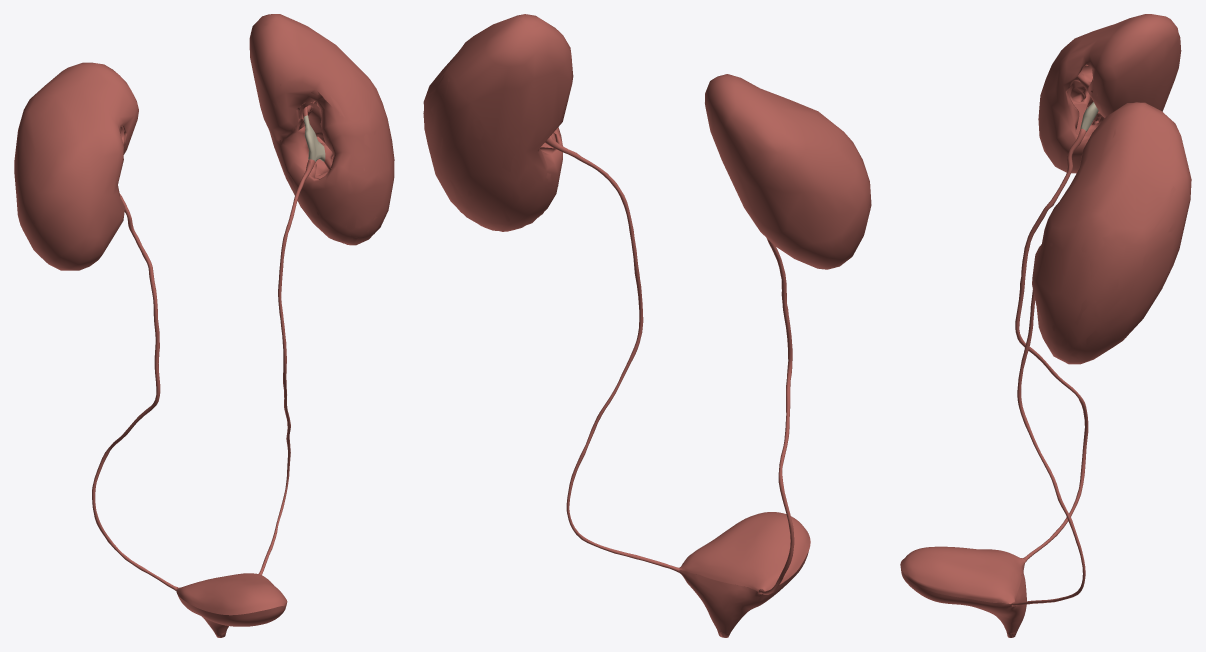
The model's file is adult_female.urinary.LOD2.glb.
3 renders of one model, left to right at view 1: azimuth 30°, elevation 25°; view 2: azimuth 150°, elevation 25°; view 3: azimuth 270°, elevation 25°, orthographic. The views are drawn at different scales.
Parts seen in each view (by area): view 1: ADULT.FEMALE.URINARY.KIDNEY_CAPSULE.L, ADULT.FEMALE.URINARY.KIDNEY_CAPSULE.R, ADULT.FEMALE.URINARY.FUNDUS_OF_URINARY_BLADDER_DOME, ADULT.FEMALE.URINARY.URETER.R, ADULT.FEMALE.URINARY.URETER.L, ADULT.FEMALE.URINARY.FUNDUS_OF_URINARY_BLADDER_BASE, ADULT.FEMALE.URINARY.HILUM_OF_KIDNEY.L, ADULT.FEMALE.URINARY.OUTER_CORTEX_OF_KIDNEY.L, ADULT.FEMALE.URINARY.RENAL_PELVIS.L; view 2: ADULT.FEMALE.URINARY.KIDNEY_CAPSULE.L, ADULT.FEMALE.URINARY.KIDNEY_CAPSULE.R, ADULT.FEMALE.URINARY.FUNDUS_OF_URINARY_BLADDER_DOME, ADULT.FEMALE.URINARY.FUNDUS_OF_URINARY_BLADDER_BASE, ADULT.FEMALE.URINARY.URETER.L, ADULT.FEMALE.URINARY.OUTER_CORTEX_OF_KIDNEY.L, ADULT.FEMALE.URINARY.URETER.R; view 3: ADULT.FEMALE.URINARY.KIDNEY_CAPSULE.L, ADULT.FEMALE.URINARY.KIDNEY_CAPSULE.R, ADULT.FEMALE.URINARY.FUNDUS_OF_URINARY_BLADDER_DOME, ADULT.FEMALE.URINARY.OUTER_CORTEX_OF_KIDNEY.L, ADULT.FEMALE.URINARY.URETER.R, ADULT.FEMALE.URINARY.FUNDUS_OF_URINARY_BLADDER_BASE, ADULT.FEMALE.URINARY.URETER.L, ADULT.FEMALE.URINARY.HILUM_OF_KIDNEY.R.
Boxes of the visible parts, x1,y1,x2,y2 form: ADULT.FEMALE.URINARY.KIDNEY_CAPSULE.L: [249, 14, 394, 245]; ADULT.FEMALE.URINARY.KIDNEY_CAPSULE.R: [14, 62, 138, 270]; ADULT.FEMALE.URINARY.FUNDUS_OF_URINARY_BLADDER_DOME: [176, 573, 287, 615]; ADULT.FEMALE.URINARY.URETER.R: [92, 193, 177, 590]; ADULT.FEMALE.URINARY.URETER.L: [258, 159, 315, 574]; ADULT.FEMALE.URINARY.FUNDUS_OF_URINARY_BLADDER_BASE: [178, 595, 285, 633]; ADULT.FEMALE.URINARY.HILUM_OF_KIDNEY.L: [280, 83, 333, 178]; ADULT.FEMALE.URINARY.OUTER_CORTEX_OF_KIDNEY.L: [269, 34, 390, 244]; ADULT.FEMALE.URINARY.RENAL_PELVIS.L: [303, 115, 325, 161]; ADULT.FEMALE.URINARY.KIDNEY_CAPSULE.L: [423, 14, 573, 231]; ADULT.FEMALE.URINARY.KIDNEY_CAPSULE.R: [705, 74, 871, 269]; ADULT.FEMALE.URINARY.FUNDUS_OF_URINARY_BLADDER_DOME: [679, 512, 810, 592]; ADULT.FEMALE.URINARY.FUNDUS_OF_URINARY_BLADDER_BASE: [679, 551, 808, 633]; ADULT.FEMALE.URINARY.URETER.L: [545, 135, 679, 572]; ADULT.FEMALE.URINARY.OUTER_CORTEX_OF_KIDNEY.L: [423, 49, 558, 231]; ADULT.FEMALE.URINARY.URETER.R: [758, 238, 794, 594]; ADULT.FEMALE.URINARY.KIDNEY_CAPSULE.L: [1032, 102, 1191, 364]; ADULT.FEMALE.URINARY.KIDNEY_CAPSULE.R: [1038, 14, 1181, 173]; ADULT.FEMALE.URINARY.FUNDUS_OF_URINARY_BLADDER_DOME: [900, 546, 1025, 603]; ADULT.FEMALE.URINARY.OUTER_CORTEX_OF_KIDNEY.L: [1035, 129, 1189, 362]; ADULT.FEMALE.URINARY.URETER.R: [1015, 128, 1088, 561]; ADULT.FEMALE.URINARY.FUNDUS_OF_URINARY_BLADDER_BASE: [900, 562, 1026, 632]; ADULT.FEMALE.URINARY.URETER.L: [1011, 290, 1085, 606]; ADULT.FEMALE.URINARY.HILUM_OF_KIDNEY.R: [1067, 65, 1103, 136].
Bounding box in the file's own units: 0.2219 × 0.3188 × 0.142.
